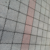zebra: (1, 11, 49, 40)
